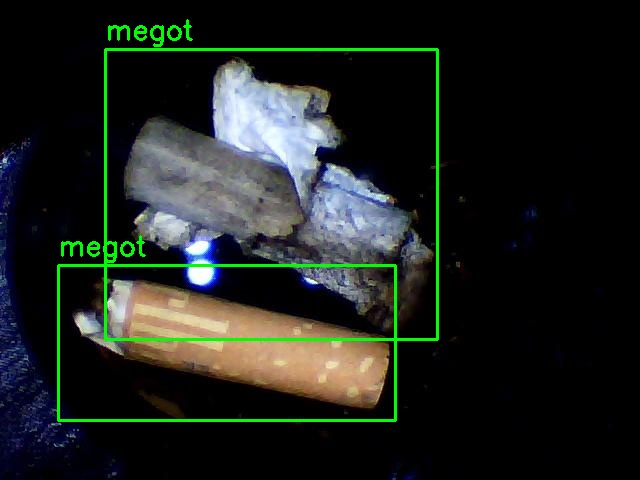megot: (105, 49, 437, 339), (58, 265, 395, 420)
